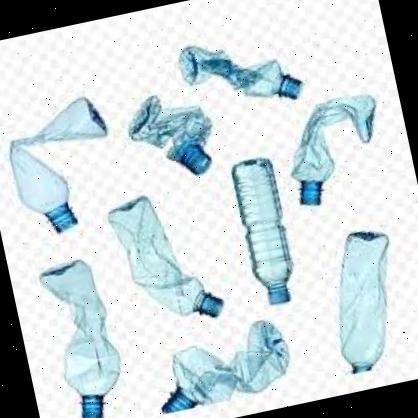bottle: (0, 86, 134, 245), (104, 180, 231, 345), (305, 215, 418, 388), (269, 78, 402, 224), (29, 247, 140, 418), (167, 10, 316, 136), (149, 312, 298, 418), (216, 145, 306, 317), (116, 80, 222, 192)
